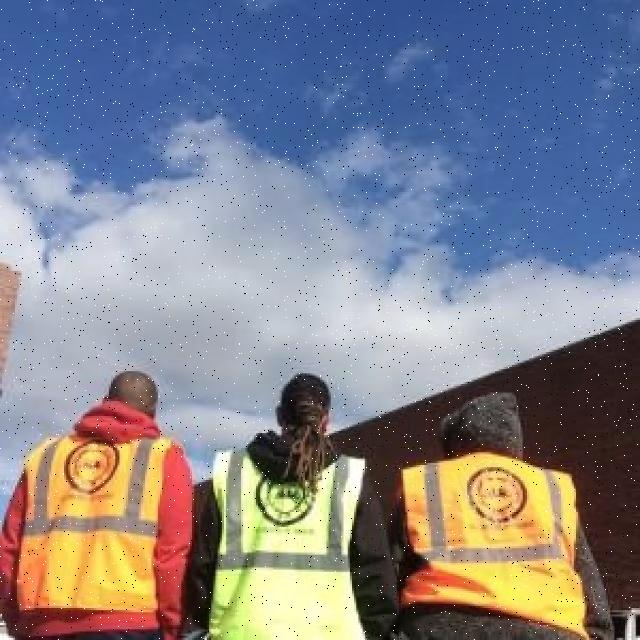Vest: (405, 453, 588, 622), (209, 448, 363, 640), (22, 433, 167, 617)
